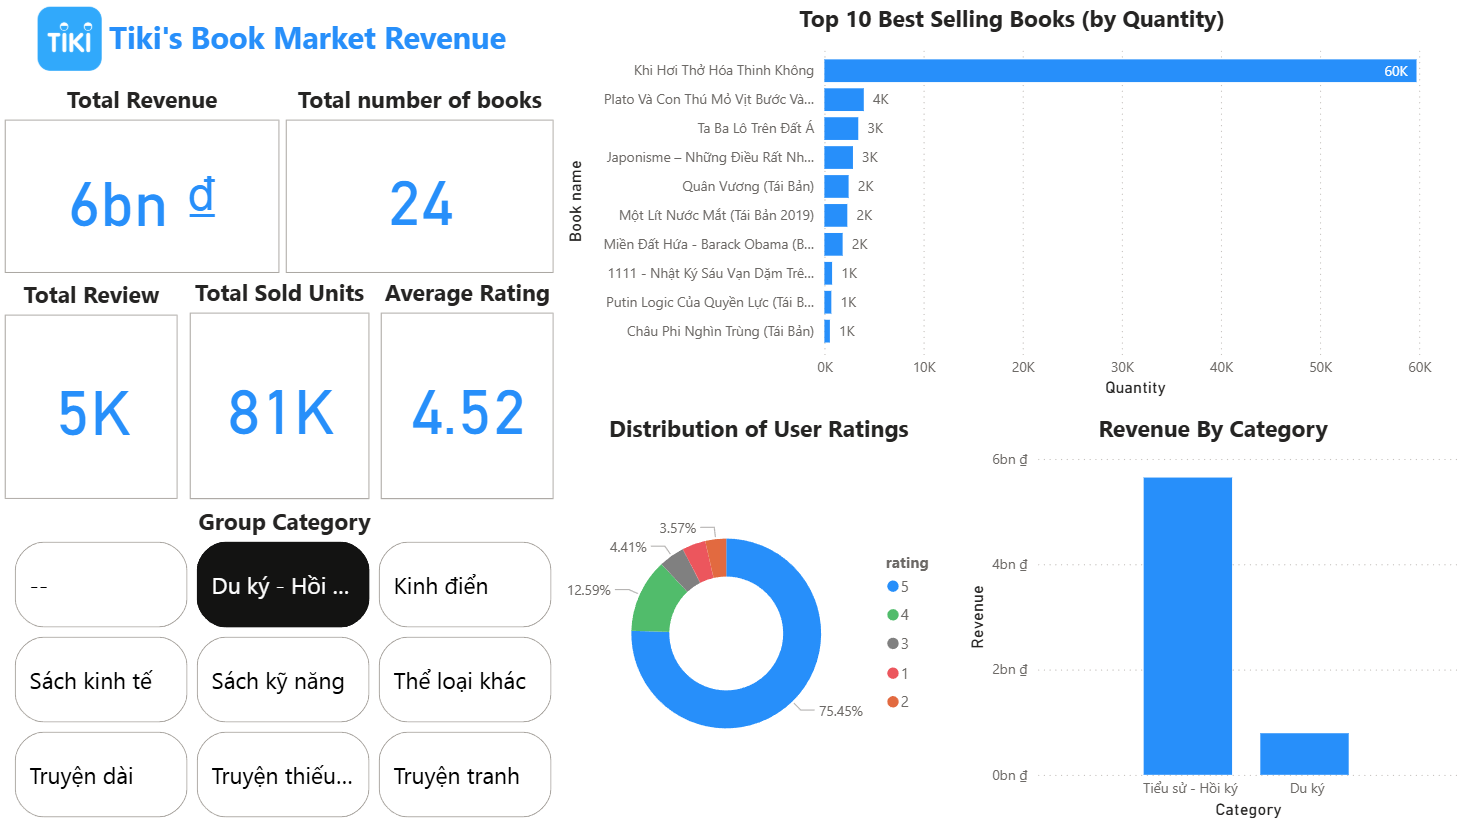

What the dashboard file says about the page in this screenshot:
{"tool":"powerbi","page":{"name":"Page 1","canvas":[1280,720],"ordinal":0},"visuals":[{"type":"cardVisual","title":"Total number of books","fields":{"Data":["Count(book_data_cleaned_forPowerBI.product_id)"]},"box":[245.7,72.9,244.3,171.4],"z":0},{"type":"textbox","box":[80.7,8.8,378.4,50.6],"z":1000},{"type":"cardVisual","title":"Total Revenue ","fields":{"Data":["Sum(book_data_cleaned_forPowerBI.revenue)"]},"box":[0,72.9,250,171.4],"z":2000},{"type":"cardVisual","title":"Total Sold Units","fields":{"Data":["Sum(book_data_cleaned_forPowerBI.quantity)"]},"box":[161.4,241.4,167.1,200],"z":3000},{"type":"cardVisual","title":"Total Review","fields":{"Data":["Sum(book_data_cleaned_forPowerBI.n_review)"]},"box":[0,242.9,161.4,198.6],"z":4000},{"type":"cardVisual","title":"Average Rating","fields":{"Data":["Avg(comment_cleaned.rating)"]},"box":[328.6,241.4,161.4,200],"z":5000},{"type":"barChart","title":"Top 10 Best Selling Books (by Quantity)","fields":{"Category":["book_data_cleaned_forPowerBI.title"],"Y":["Sum(book_data_cleaned_forPowerBI.quantity)"]},"box":[490,1.4,790,350],"z":6000},{"type":"columnChart","title":"Revenue By Category","fields":{"Category":["book_data_cleaned_forPowerBI.category"],"Y":["Sum(book_data_cleaned_forPowerBI.revenue)"]},"box":[841.1,360,438.9,360],"z":7000},{"type":"donutChart","title":"Distribution of User Ratings","fields":{"Category":["comment_cleaned.rating"],"Y":["CountNonNull(comment_cleaned.rating)"]},"box":[491.4,360,345.7,360],"z":8000},{"type":"advancedSlicerVisual","fields":{"Values":["book_data_cleaned_forPowerBI.Clean Category"]},"box":[8.6,441.4,481.4,278.6],"z":9000},{"type":"image","box":[8.8,1,106,66.1],"z":10000}]}

Visuals, with their boxes in screenshot pixels (x1, y1, x2, y2), scaled from the page's 1280x720 canvas onto the 1464x833 screenshot:
"Total number of books" cardVisual: locate(281, 84, 560, 283)
textbox: locate(92, 10, 525, 69)
"Total Revenue " cardVisual: locate(0, 84, 286, 283)
"Total Sold Units" cardVisual: locate(185, 279, 376, 511)
"Total Review" cardVisual: locate(0, 281, 185, 511)
"Average Rating" cardVisual: locate(376, 279, 560, 511)
"Top 10 Best Selling Books (by Quantity)" barChart: locate(560, 2, 1463, 407)
"Revenue By Category" columnChart: locate(962, 417, 1463, 832)
"Distribution of User Ratings" donutChart: locate(562, 417, 957, 832)
advancedSlicerVisual - book_data_cleaned_forPowerBI.Clean Category: locate(10, 511, 560, 832)
image: locate(10, 1, 131, 78)
